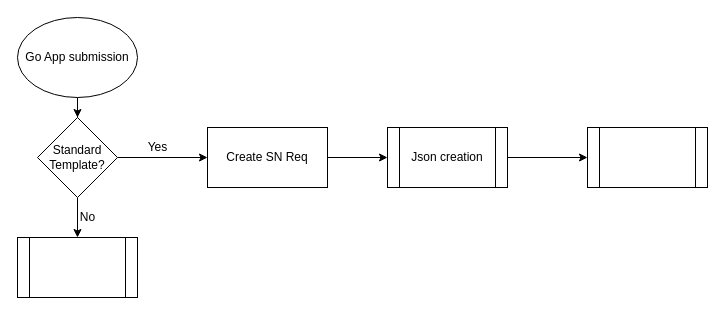
This 725x315 diagram has some shape labels left out. Here are the shapes that lost their labels. From the top down, the box of each, then its label:
(586, 126, 708, 188): Gitlab Workflow
(16, 236, 138, 298): Jira Creation (follow current workflow)
